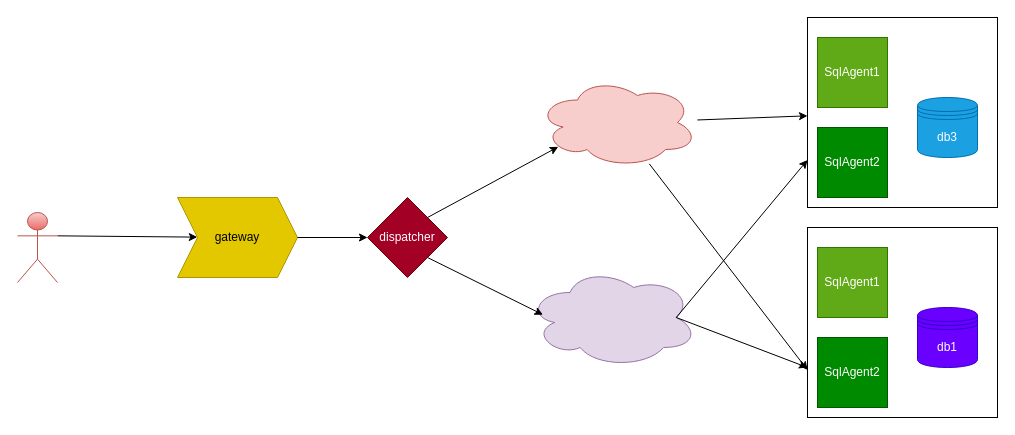
Some shapes in this 1015 by 435 pixel diagram are drawn without their labels. Each missing label, with the centre of its shape:
Actor: the point at 37,247
backend Service1: the point at 617,122
backend Service2: the point at 612,317
